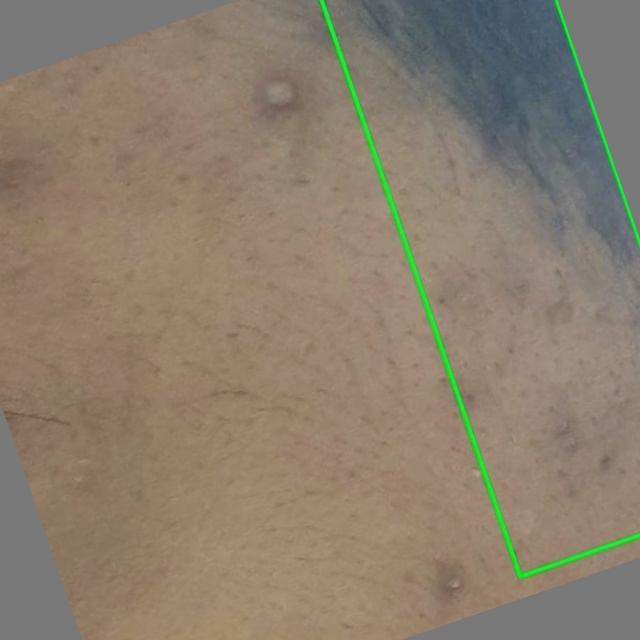Seborrheic Dermatitis: (321, 0, 639, 576)
